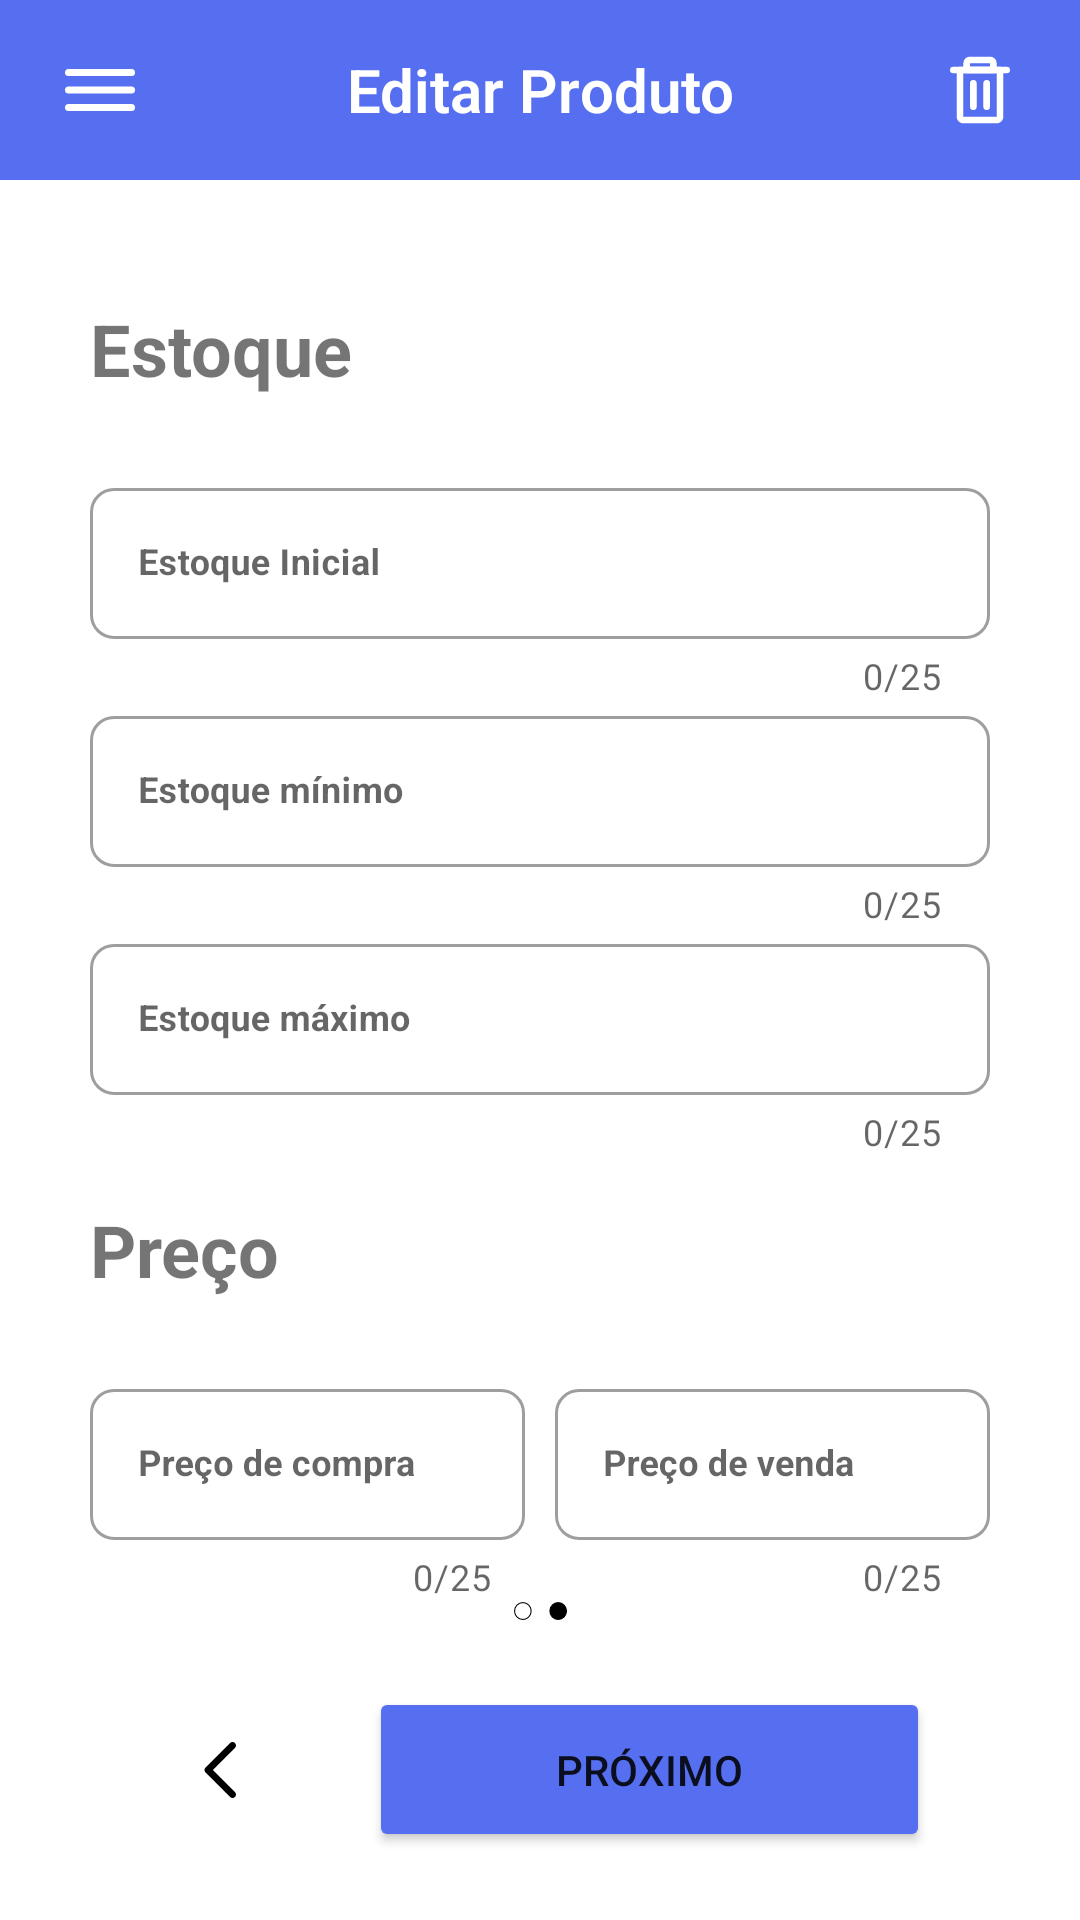

Screen size 1080px×1920px. Icon name, then its center in pixels as [x,y]:
chevron left: [220,1770]
hamburger lg: [100,90]
trash full: [980,90]
